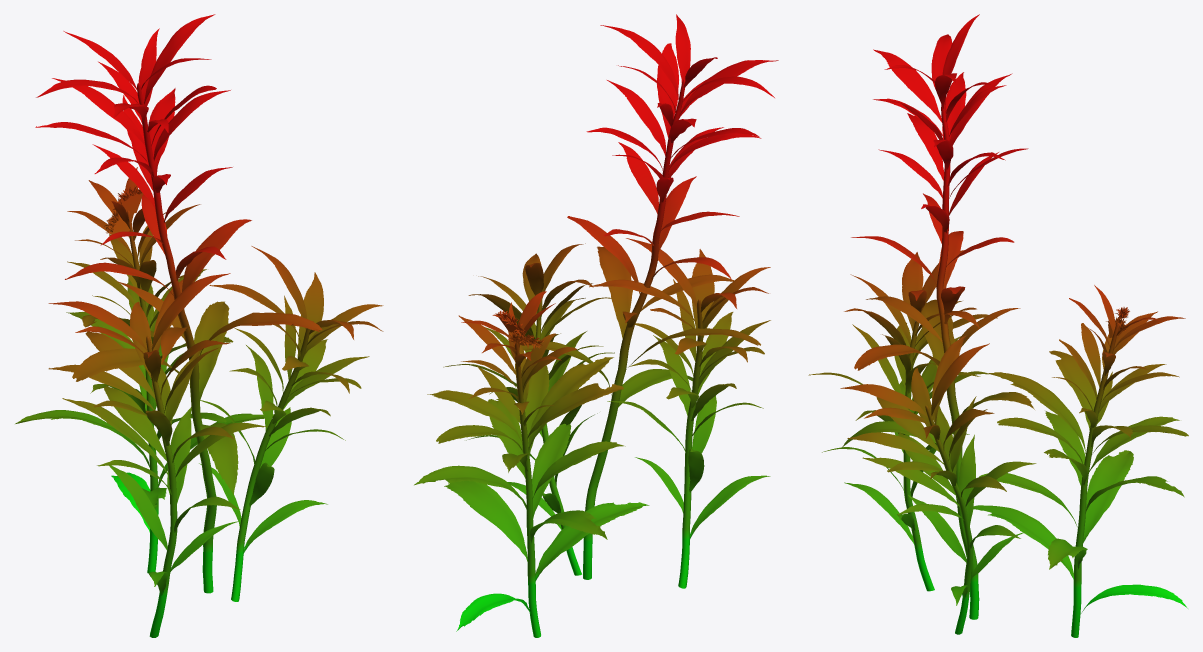
File: Goldenrods_LOD0_Var7.fbx
The picture shows the model from 3 angles, left to right: view 1: azimuth 30°, elevation 25°; view 2: azimuth 150°, elevation 25°; view 3: azimuth 270°, elevation 25°; orthographic projection. The views are drawn at different scales.
Visible parts, largest first — view 1: _baoe_Var7_LOD0; view 2: _baoe_Var7_LOD0; view 3: _baoe_Var7_LOD0.
Part boxes in pixels (x1,y1,x2,y2): _baoe_Var7_LOD0: [15, 14, 383, 637]; _baoe_Var7_LOD0: [414, 14, 778, 637]; _baoe_Var7_LOD0: [808, 14, 1188, 637].
Size of the model in its own units: 50.04 by 87.52 by 53.9.
